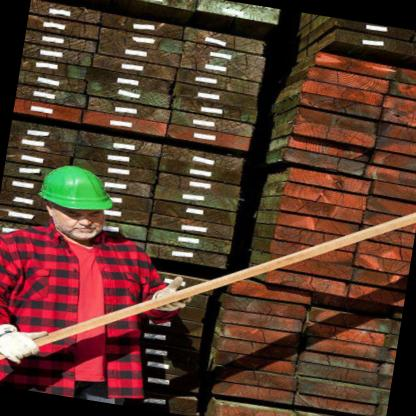helmet: (28, 152, 127, 251)
